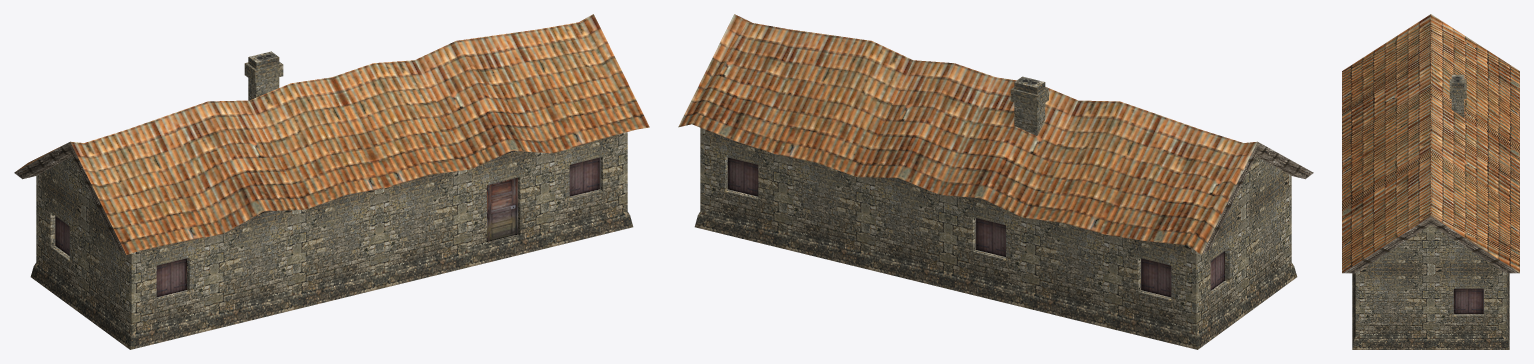
The model's file is s44_b_house_1_3.dae.
3 renders of one model, left to right at view 1: azimuth 30°, elevation 25°; view 2: azimuth 150°, elevation 25°; view 3: azimuth 270°, elevation 25°, orthographic. The views are drawn at different scales.
Parts seen in each view (by area): view 1: s44_b_house_1_3; view 2: s44_b_house_1_3; view 3: s44_b_house_1_3.
Part boxes in pixels (bbox=[...]): s44_b_house_1_3: bbox=[14, 14, 649, 349]; s44_b_house_1_3: bbox=[678, 14, 1313, 349]; s44_b_house_1_3: bbox=[1342, 14, 1519, 349].
Bounding box in the file's own units: 152 × 56.55 × 54.08.
1 material, 1 textured.
